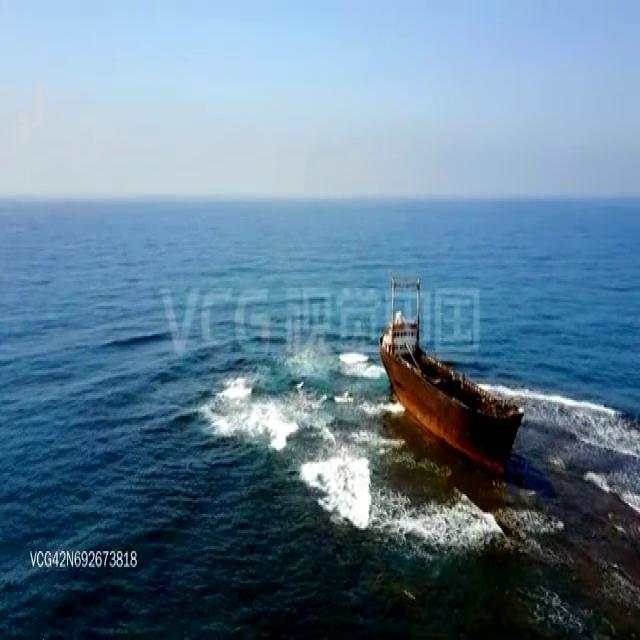cargoship: (379, 275, 523, 468)
